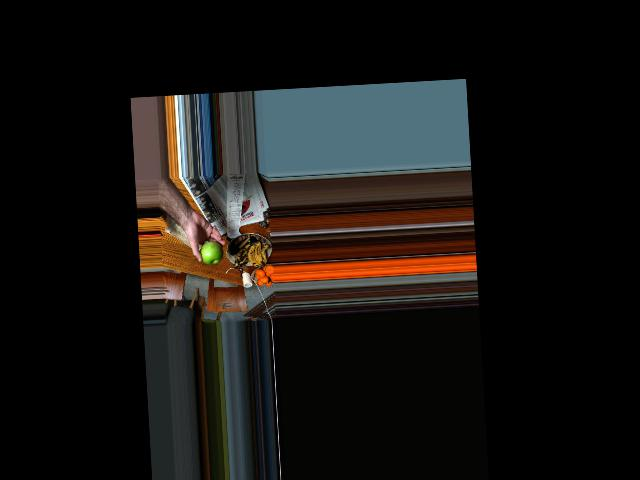apple: (198, 241, 221, 264)
